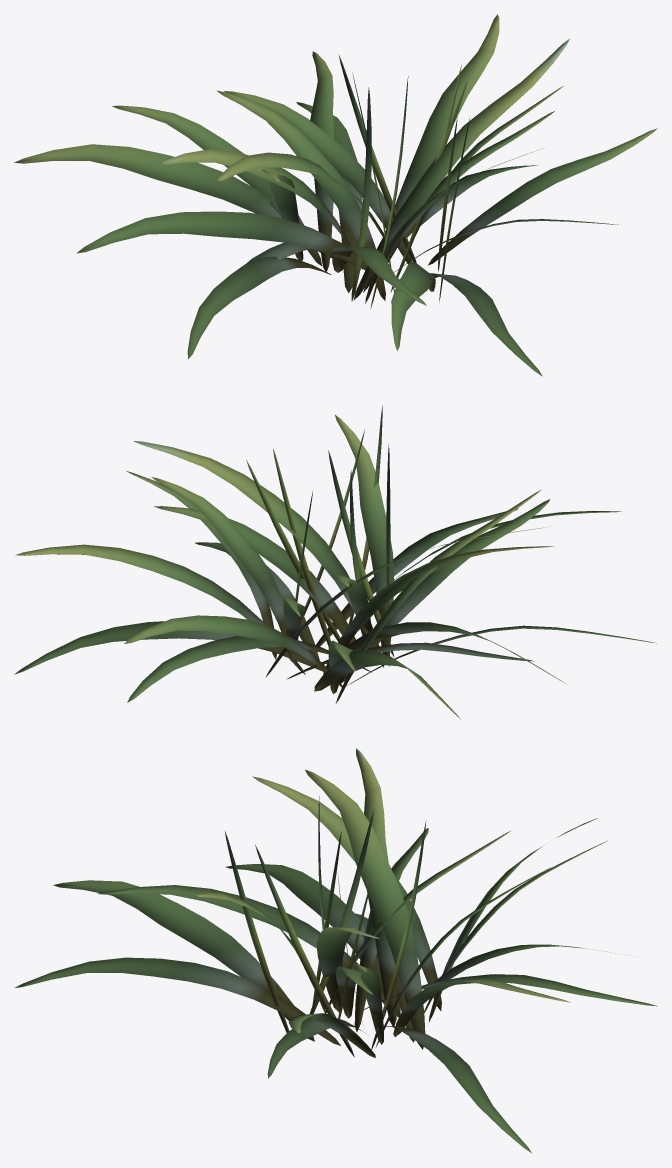
Rendered from osoka-aloesowata-21.obj.
The picture shows the model from 3 angles, top to bottom: view 1: azimuth 30°, elevation 25°; view 2: azimuth 150°, elevation 25°; view 3: azimuth 270°, elevation 25°; orthographic projection. The views are drawn at different scales.
Parts seen in each view (by area): view 1: Stratiotes-aloides1.009; view 2: Stratiotes-aloides1.009; view 3: Stratiotes-aloides1.009.
Boxes of the visible parts, x1,y1,x2,y2 form: Stratiotes-aloides1.009: (14,14,657,376); Stratiotes-aloides1.009: (14,405,656,719); Stratiotes-aloides1.009: (15,748,657,1152).
Size of the model in its own units: 0.3605 by 0.1498 by 0.3904.
1 material, 1 textured.
